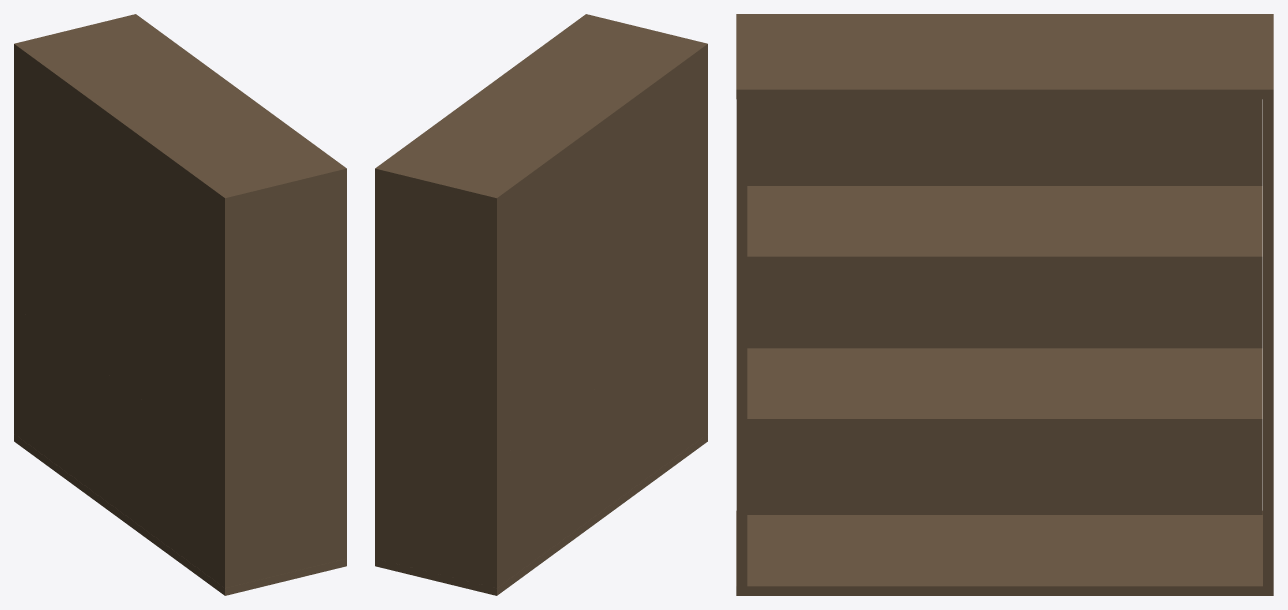
Rendered from shelf_lowpoly.fbx.
3 views of the same model, side by side, from view 1: azimuth 30°, elevation 25°; view 2: azimuth 150°, elevation 25°; view 3: azimuth 270°, elevation 25° (orthographic). The views are drawn at different scales.
Visible parts, largest first — view 1: Side1, Top, Back1, Back4, Back5, Base, Side2; view 2: Side2, Top, Back1, Back4, Back5, Base, Side1; view 3: Top, Back5, Back1, Back4, Base, Shelf1, Shelf2, Side1, Side2.
Part boxes in pixels (box(x1,y1,x2,y2)): Side1: box(220, 176, 346, 587); Top: box(14, 14, 346, 205); Back1: box(18, 309, 220, 584); Back4: box(18, 182, 220, 456); Back5: box(18, 55, 220, 329); Base: box(14, 434, 346, 595); Side2: box(14, 51, 18, 436); Side2: box(375, 176, 500, 588); Top: box(375, 14, 707, 205); Back1: box(501, 309, 703, 584); Back4: box(501, 182, 703, 457); Back5: box(501, 55, 703, 329); Base: box(375, 434, 707, 595); Side1: box(703, 51, 707, 436); Top: box(736, 14, 1273, 99); Back5: box(747, 99, 1262, 185); Back1: box(747, 429, 1262, 514); Back4: box(747, 266, 1262, 348); Base: box(736, 511, 1273, 595); Shelf1: box(747, 186, 1262, 266); Shelf2: box(747, 348, 1262, 428); Side1: box(736, 99, 747, 586); Side2: box(1263, 99, 1273, 586).
Bounding box in the file's own units: 50.01 × 156 × 150.
